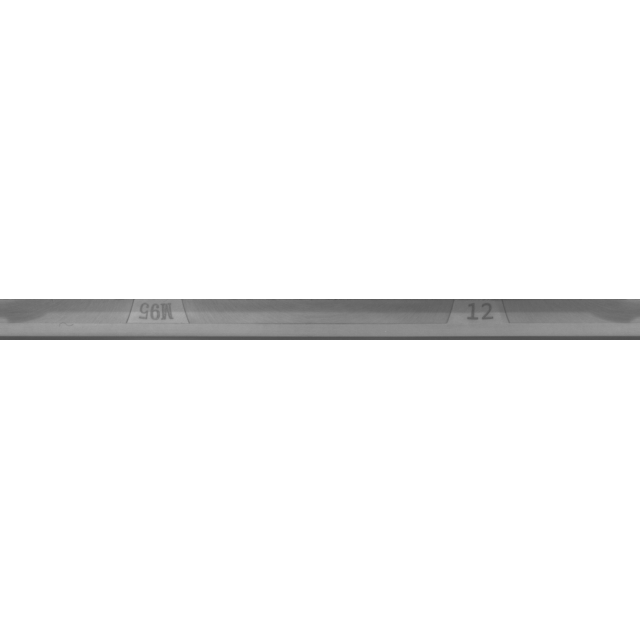mohao: (52, 270, 252, 370)
xuehao: (381, 270, 581, 370)
